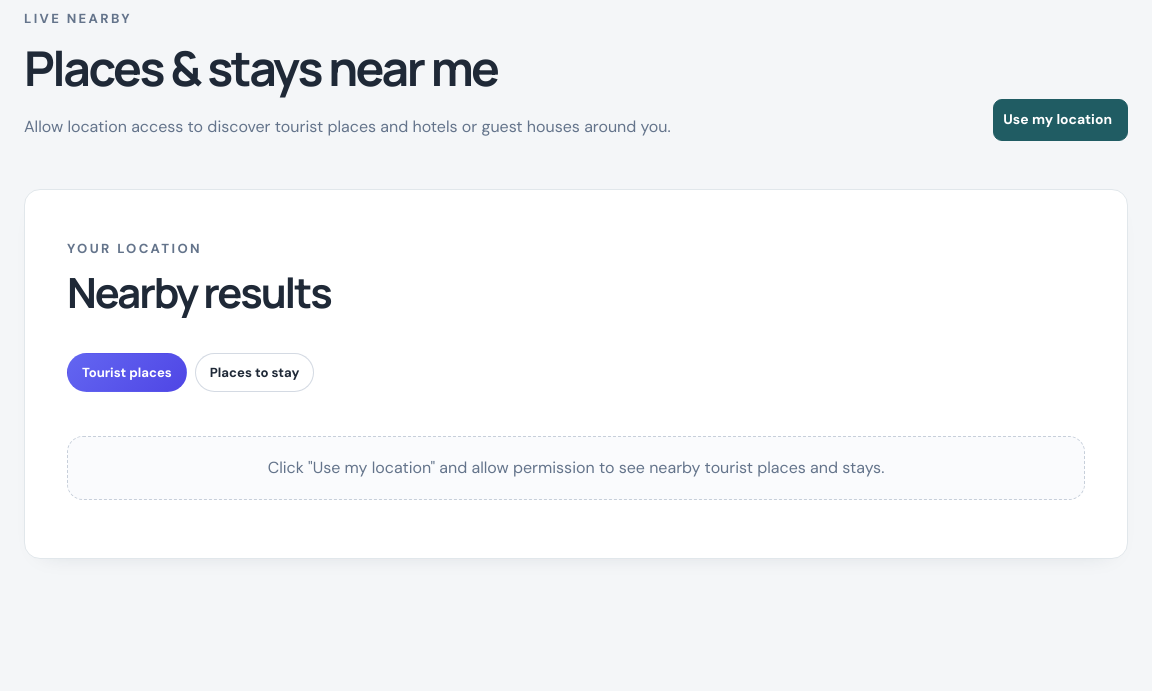
Scenario: NearMePage › "Places to stay" tab searches hotels near the same location
Click the button "Use my location" at (1061, 120), box top-left (993, 99), bottom-right (1128, 141)
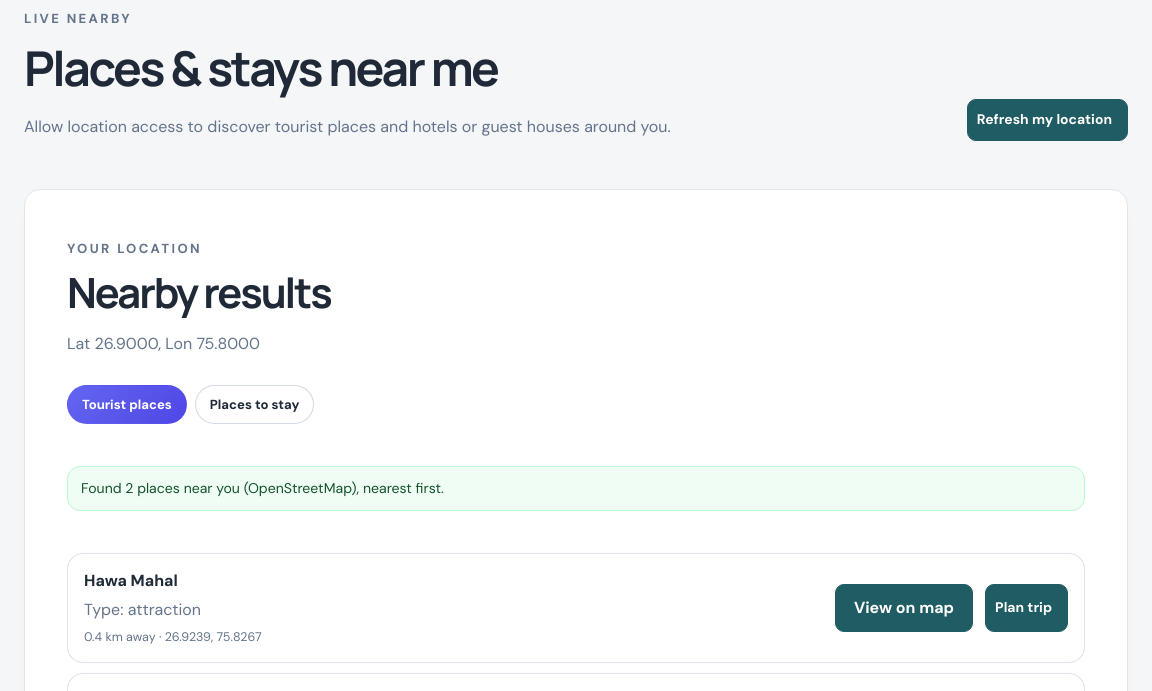
Expected: the text "Hawa Mahal" is shown, top-left (84, 570), bottom-right (178, 591)
Click the tab "Places to stay" at (255, 404), box top-left (195, 385), bottom-right (314, 424)
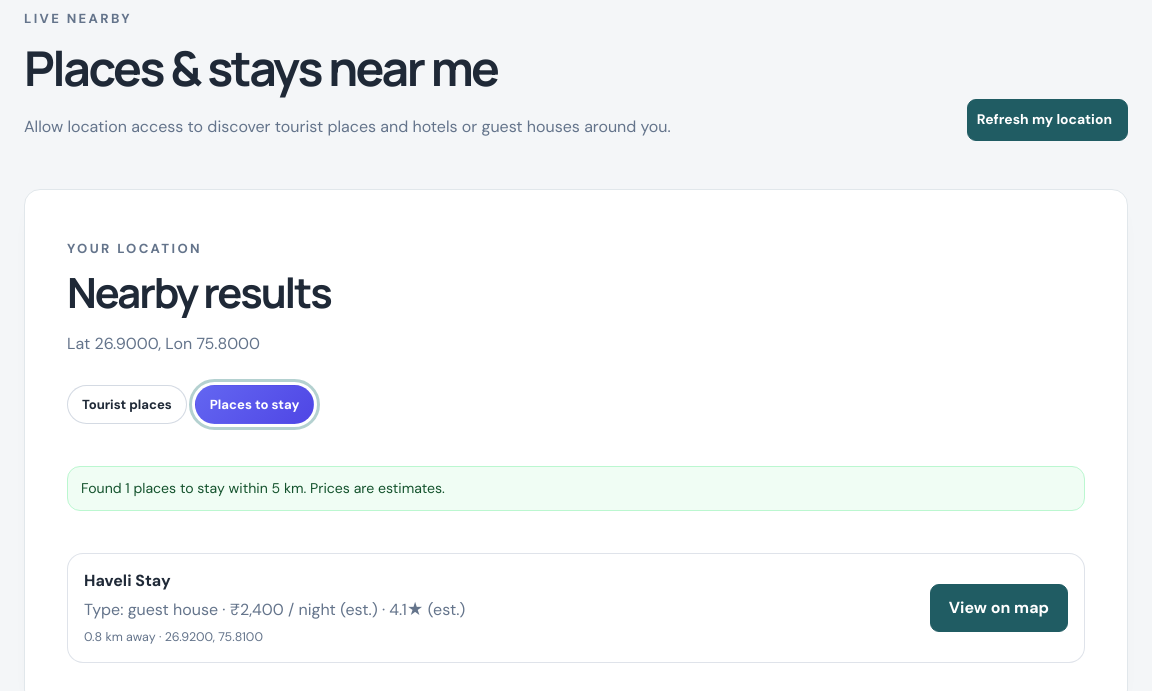
Expected: the text "Haveli Stay" is shown, top-left (84, 570), bottom-right (171, 591)
Expected: the text "Type: guest house · ₹2,400 / night (est.) · 4.1★ (est.)" is shown, top-left (84, 599), bottom-right (465, 620)
Expected: the text "Hawa Mahal" is gone
